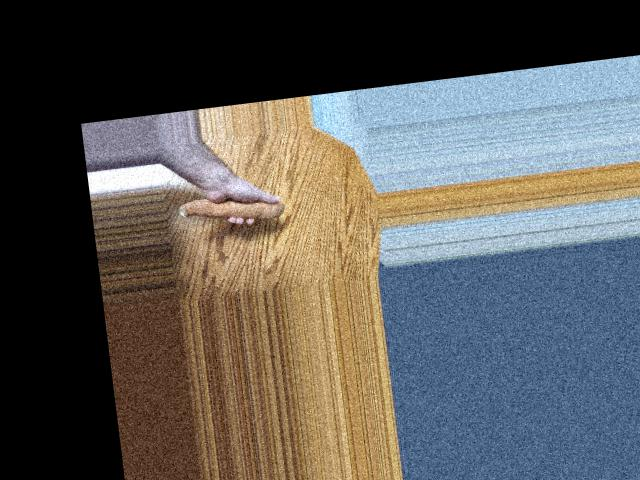sweet_potato: (178, 186, 284, 233)
